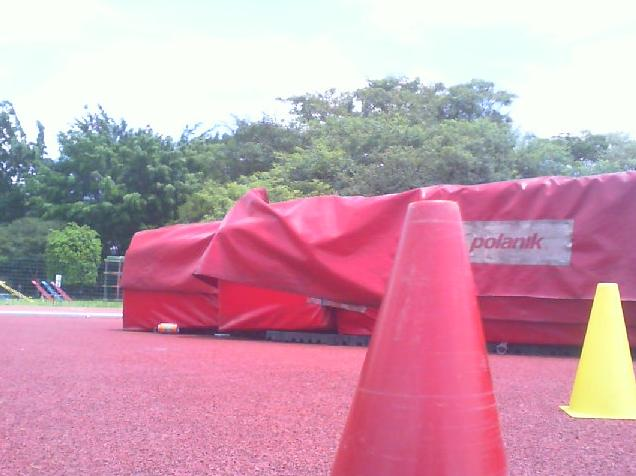0 cone: (327, 200, 508, 476), (559, 283, 636, 420)
